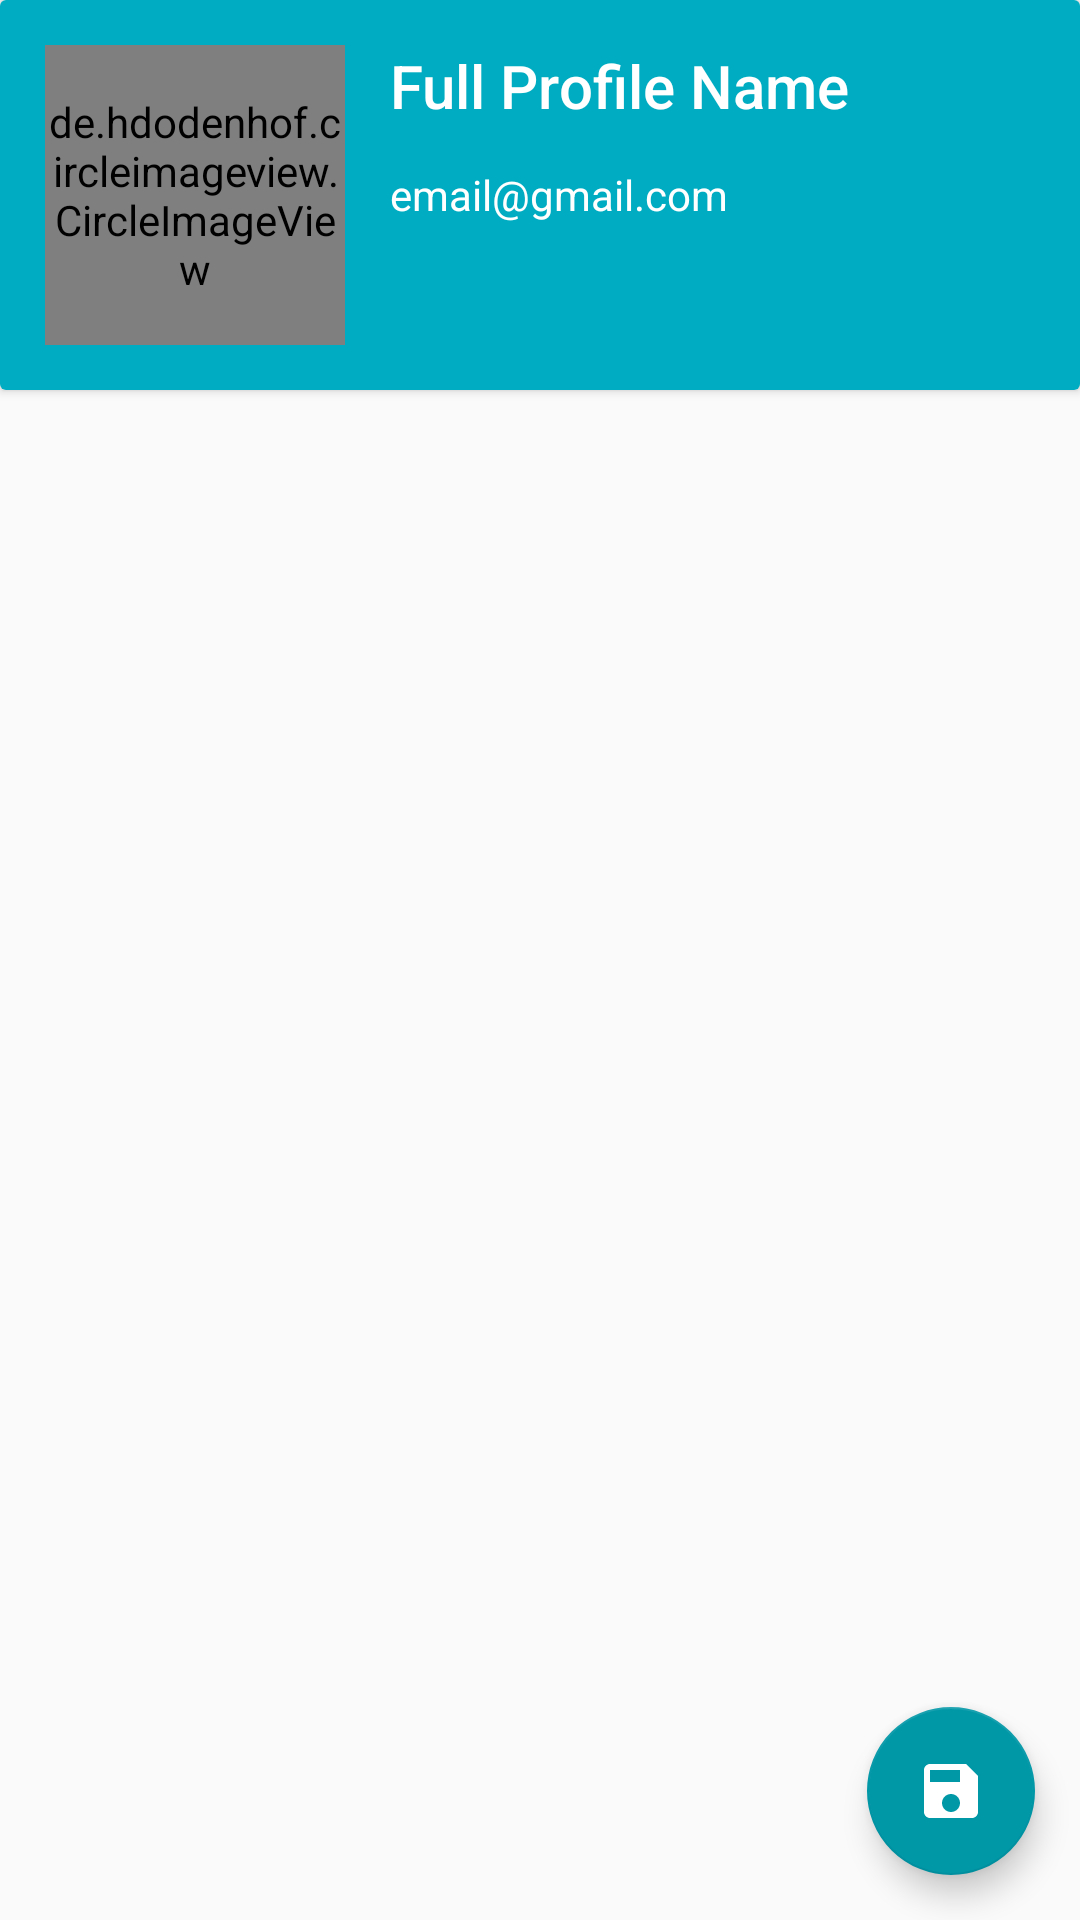

Named icons in this screenshot (1080px x 1920px) and their bounding boxes, region(x1, y1, x2, y2):
content save: region(867, 1707, 1035, 1875)
